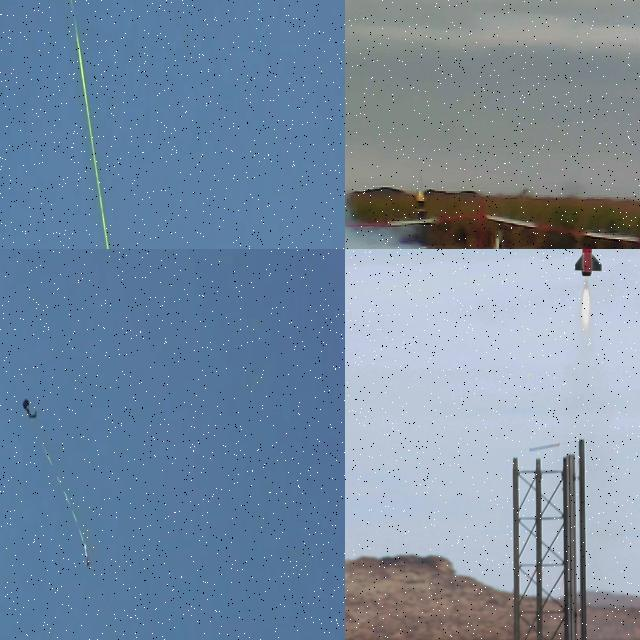Rocket: (414, 187, 442, 249), (572, 249, 603, 278), (486, 230, 507, 249), (83, 543, 91, 567)
